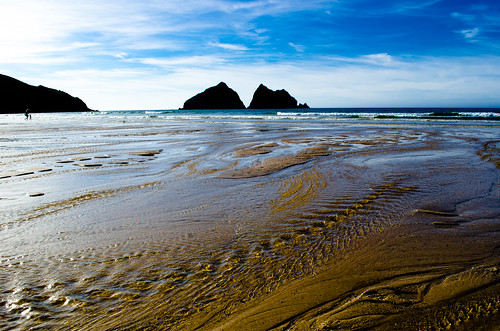beach: (12, 121, 500, 331)
mountain: (180, 78, 242, 108), (242, 73, 304, 103)
sky: (1, 1, 497, 101)
